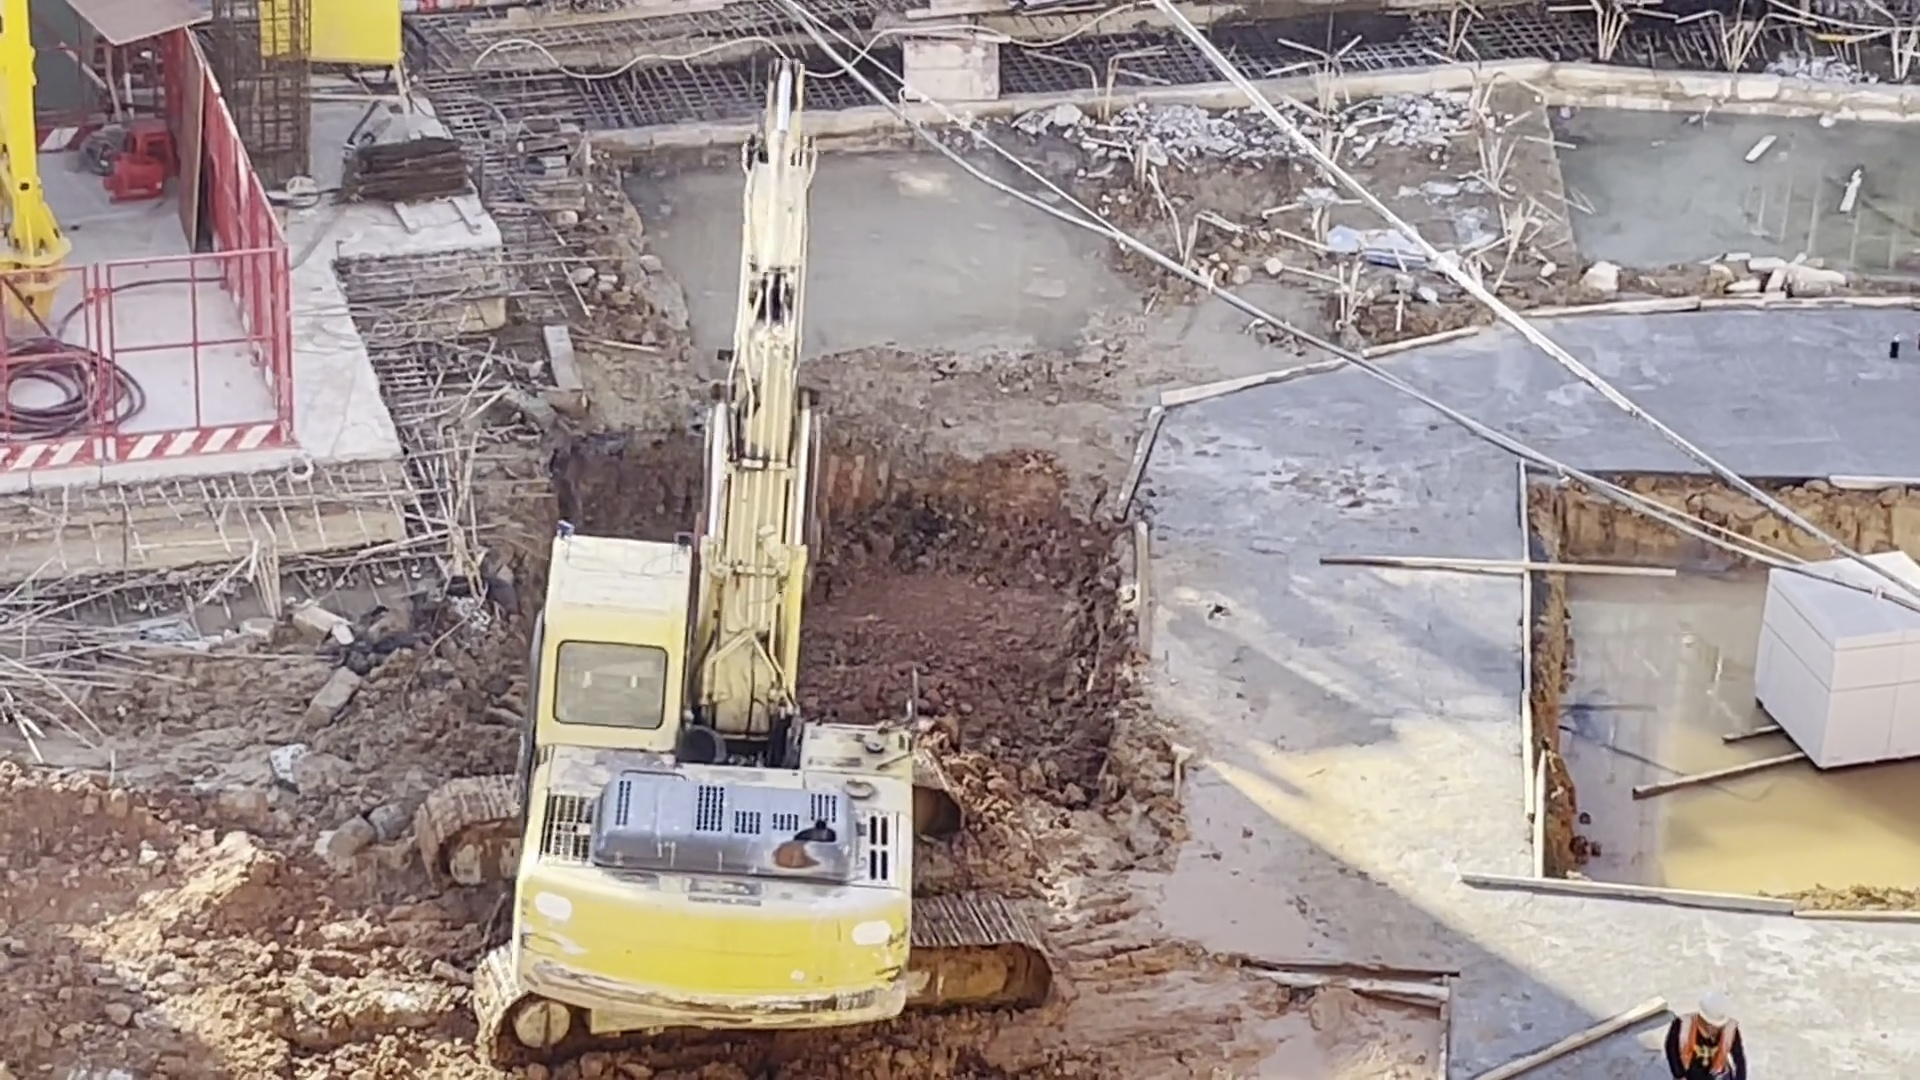brick: (1754, 612, 1920, 779)
ebox: (317, 6, 426, 148)
fence: (11, 260, 285, 460), (211, 94, 287, 448)
helmet: (1689, 991, 1733, 1024)
person: (1663, 990, 1749, 1080)
